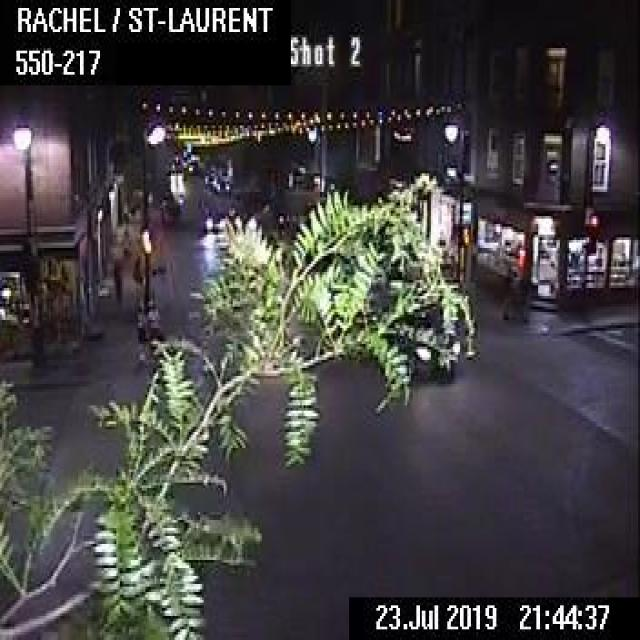pedestrian: (136, 301, 145, 357), (148, 298, 160, 338)
vehicle: (387, 314, 456, 386)
